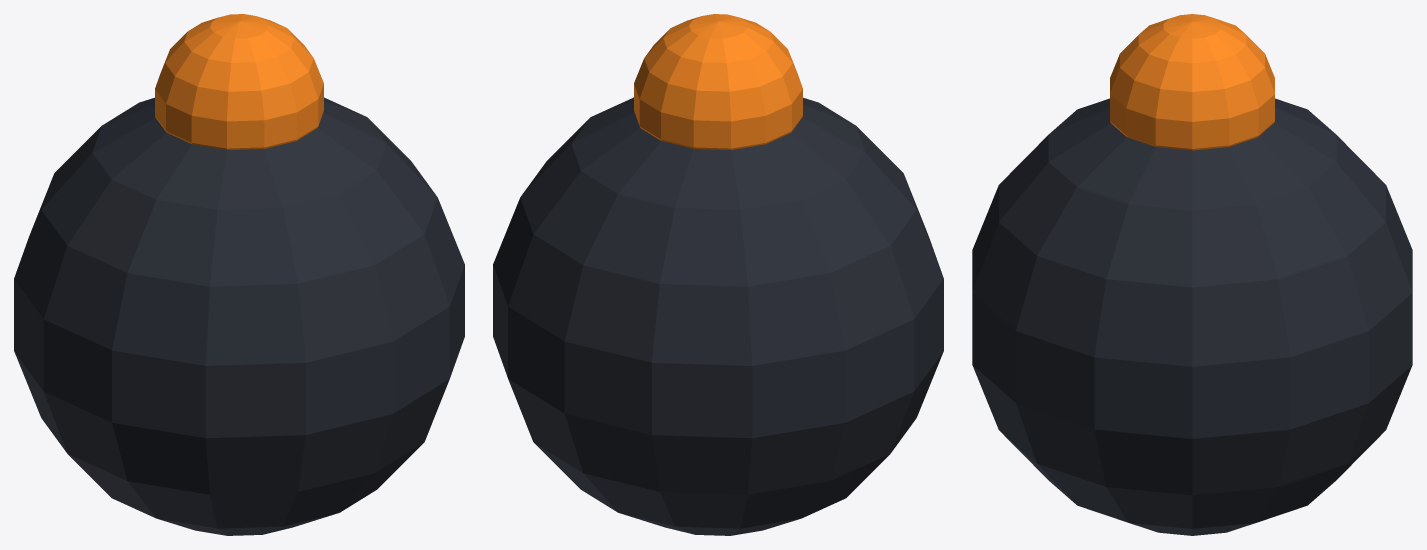
Rendered from bomblet.glb.
3 views of the same model, side by side, from view 1: azimuth 30°, elevation 25°; view 2: azimuth 150°, elevation 25°; view 3: azimuth 270°, elevation 25° (orthographic).
Parts seen in each view (by area): view 1: bomblet; view 2: bomblet; view 3: bomblet.
Part boxes in pixels (left/top/right/bottom): bomblet: left=14, top=14, right=464, bottom=535; bomblet: left=493, top=14, right=943, bottom=535; bomblet: left=972, top=14, right=1412, bottom=535.
Bounding box in the file's own units: 0.1576 × 0.19 × 0.1536.
